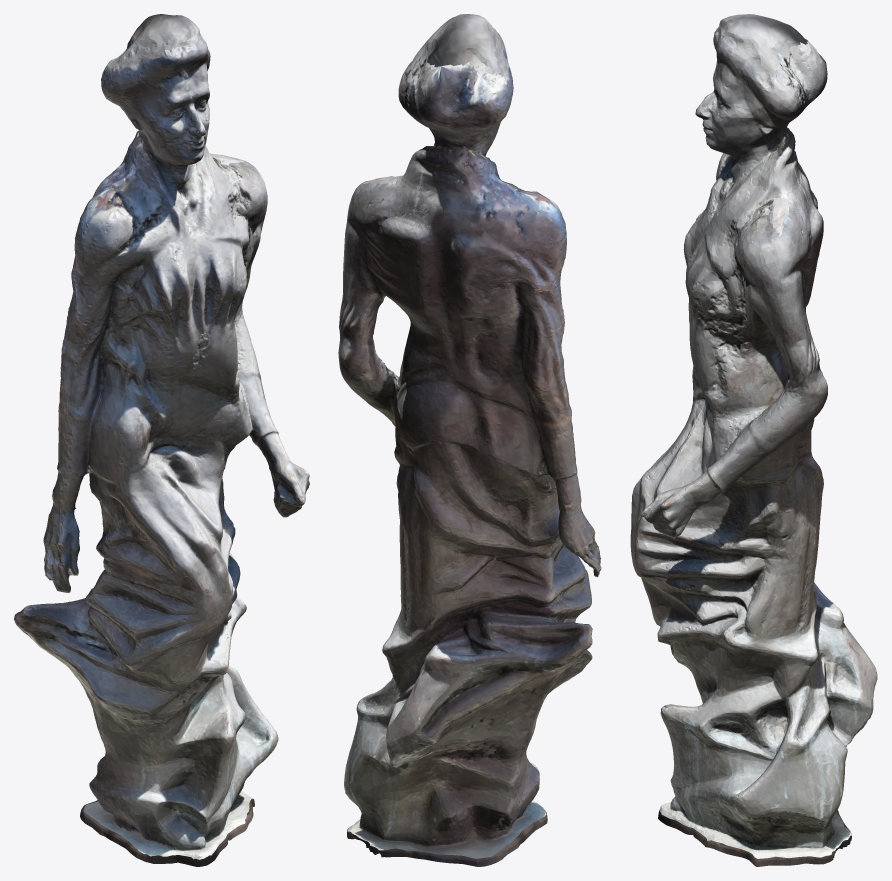
The picture shows the model from 3 angles, left to right: view 1: azimuth 30°, elevation 25°; view 2: azimuth 150°, elevation 25°; view 3: azimuth 270°, elevation 25°; orthographic projection.
Visible parts, largest first — view 1: 1k.25k; view 2: 1k.25k; view 3: 1k.25k.
Boxes of the visible parts, bbox=[...] form: 1k.25k: bbox=[14, 14, 309, 866]; 1k.25k: bbox=[338, 14, 601, 866]; 1k.25k: bbox=[630, 14, 877, 866].
Bounding box in the file's own units: 3.06 × 9.67 × 2.67.
Materials: 1 (1 with a texture image).
